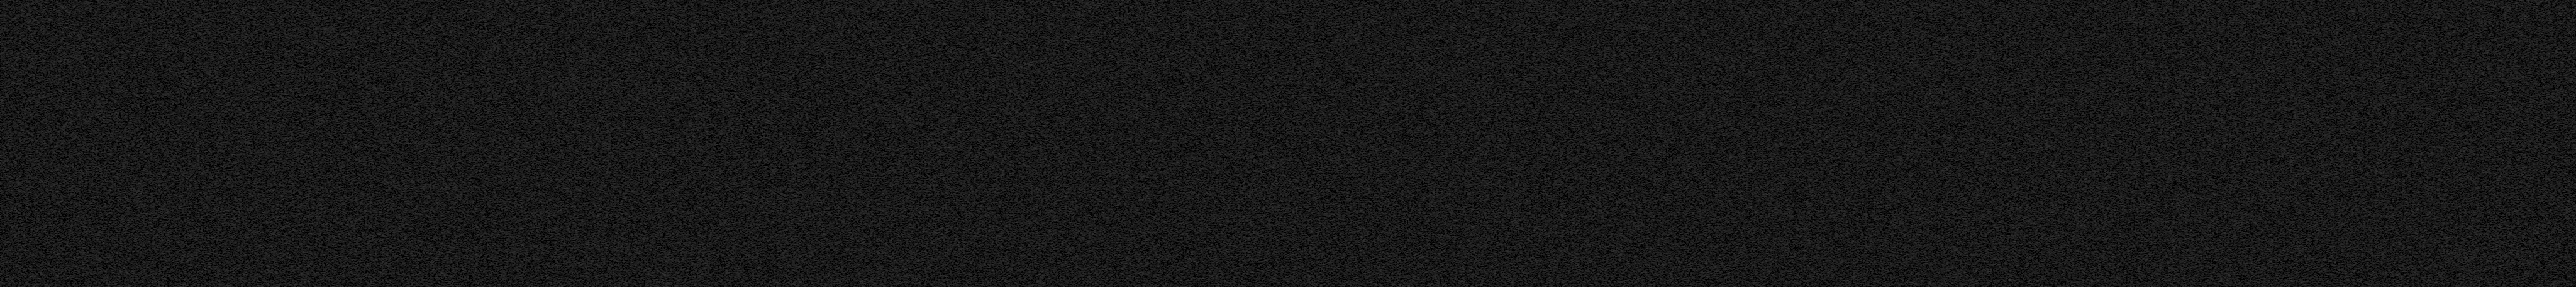wv_am: (843, 0, 846, 287), (1058, 0, 1061, 287)
wv_usb: (920, 5, 923, 235), (64, 228, 67, 284), (920, 253, 923, 287), (64, 64, 67, 87), (64, 105, 67, 123), (920, 235, 923, 246), (64, 95, 67, 103), (920, 246, 923, 253), (64, 131, 66, 143), (64, 48, 66, 56), (64, 90, 67, 93), (64, 87, 67, 90), (64, 285, 67, 287)
wv_wbfm: (1242, 0, 1304, 282), (381, 0, 442, 287), (1275, 277, 1304, 287), (1272, 276, 1286, 284), (1301, 243, 1306, 244), (1268, 285, 1272, 287)
